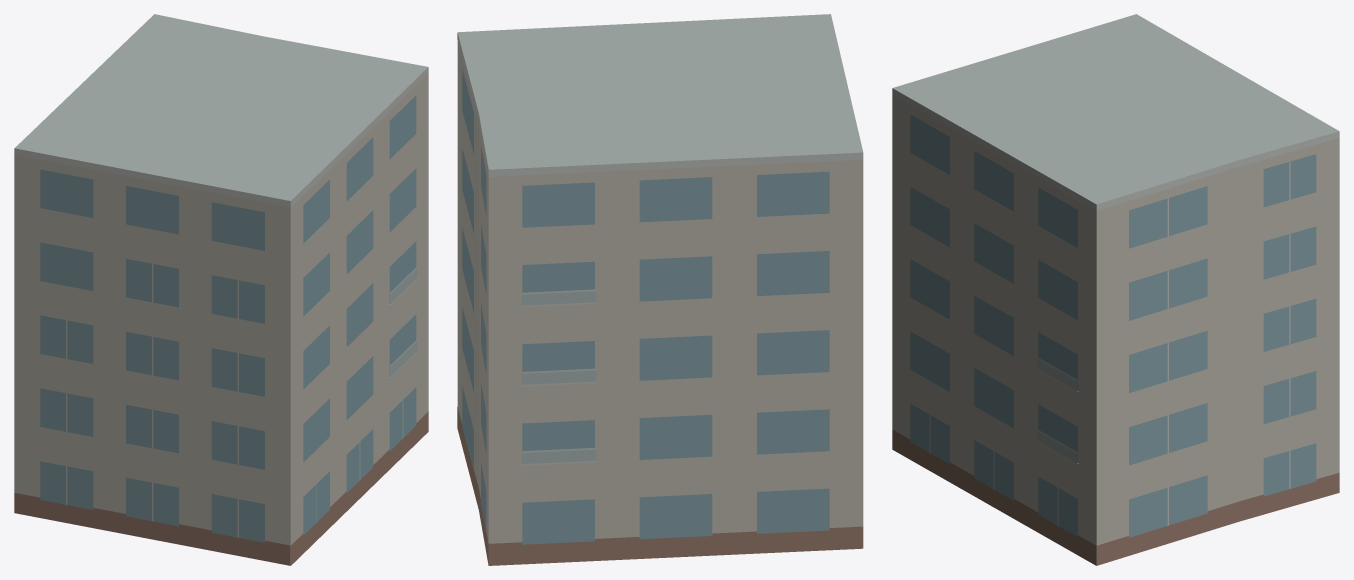
The model's file is survey-upis-32778289.glb.
The picture shows the model from 3 angles, left to right: view 1: azimuth 30°, elevation 25°; view 2: azimuth 150°, elevation 25°; view 3: azimuth 270°, elevation 25°; orthographic projection. The views are drawn at different scales.
Visible parts, largest first — view 1: survey-upis-32778289.tmp; view 2: survey-upis-32778289.tmp; view 3: survey-upis-32778289.tmp.
Part boxes in pixels (x1,y1,x2,y2): survey-upis-32778289.tmp: (14,14,428,565); survey-upis-32778289.tmp: (457,14,863,565); survey-upis-32778289.tmp: (892,14,1339,565).
Size of the model in its own units: 15.15 by 13.4 by 15.04.
